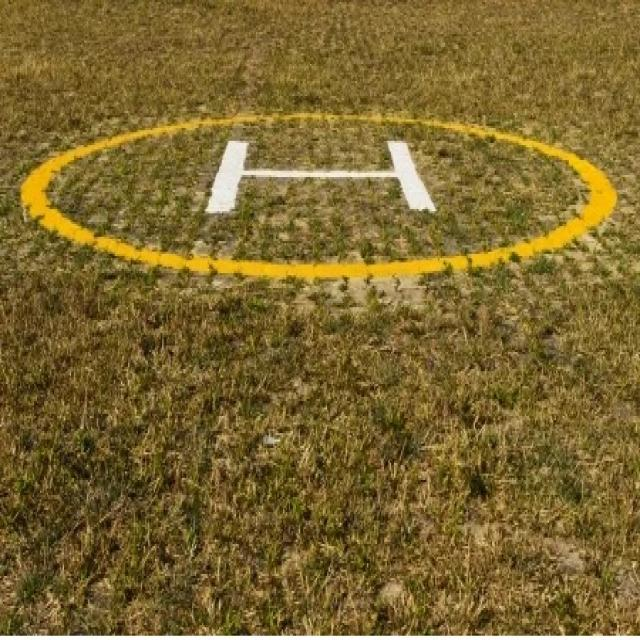helipad: (11, 103, 619, 290)
